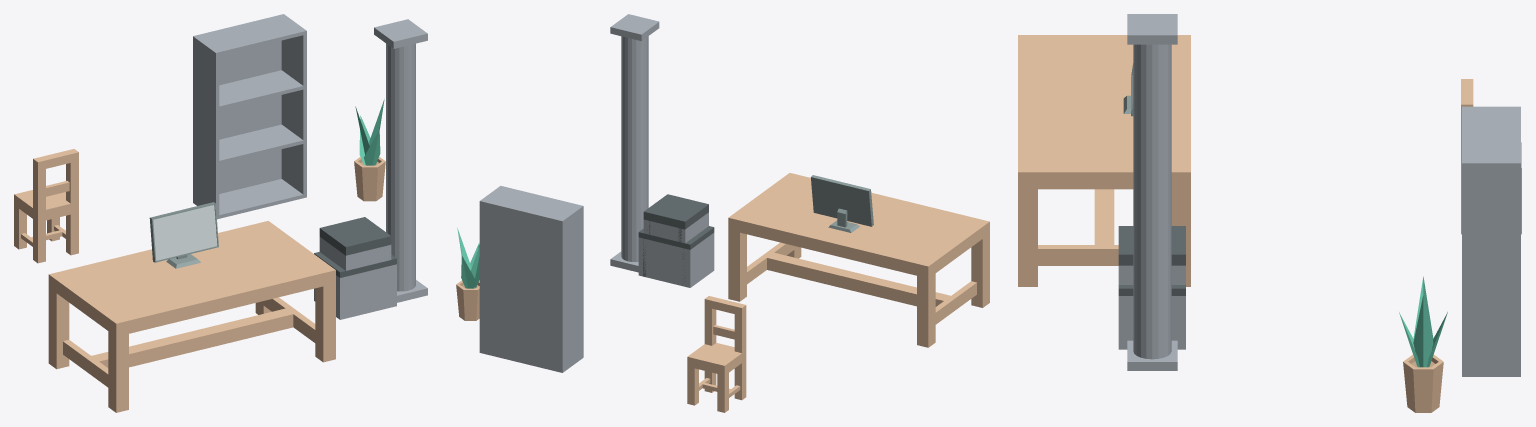
3 views of the same model, side by side, from view 1: azimuth 30°, elevation 25°; view 2: azimuth 150°, elevation 25°; view 3: azimuth 270°, elevation 25° (orthographic). The views are drawn at different scales.
Parts seen in each view (by area): view 1: table_green__table(Clone), column_cyan__column_cyan shaft, shelf_orange__shelf_orange back, chair_cyan__chair(Clone), shelf_orange__shelf_orange side_l, monitor_gray__computerScreen(Clone), shelf_orange__shelf_orange side_r, crate_red__crate_red shell, shelf_orange__shelf_orange board3, shelf_orange__shelf_orange board1, shelf_orange__shelf_orange board2, shelf_orange__shelf_orange board0 (+6 smaller); view 2: table_green__table(Clone), shelf_orange__shelf_orange back, column_cyan__column_cyan shaft, chair_cyan__chair(Clone), shelf_orange__shelf_orange side_l, crate_red__crate_red shell, monitor_gray__computerScreen(Clone), shelf_orange__shelf_orange board3, bin_gray__bin_gray lid, bin_gray__bin_gray shell, column_cyan__column_cyan capital, plant_pink__pottedPlant(Clone) (+3 smaller); view 3: table_green__table(Clone), shelf_orange__shelf_orange side_r, column_cyan__column_cyan shaft, shelf_orange__shelf_orange board3, plant_pink__pottedPlant(Clone), column_cyan__column_cyan capital, crate_red__crate_red shell, plant_pink__plant, bin_gray__bin_gray lid, column_cyan__column_cyan plinth, bin_gray__bin_gray shell, chair_cyan__chair(Clone).
Boxes of the visible parts, bbox=[...] form: table_green__table(Clone): bbox=[48, 221, 335, 412]; column_cyan__column_cyan shaft: bbox=[386, 43, 415, 291]; shelf_orange__shelf_orange back: bbox=[196, 15, 281, 193]; chair_cyan__chair(Clone): bbox=[14, 149, 78, 263]; shelf_orange__shelf_orange side_l: bbox=[193, 35, 219, 219]; monitor_gray__computerScreen(Clone): bbox=[149, 202, 218, 268]; shelf_orange__shelf_orange side_r: bbox=[280, 14, 306, 198]; crate_red__crate_red shell: bbox=[314, 264, 396, 319]; shelf_orange__shelf_orange board3: bbox=[198, 16, 303, 55]; shelf_orange__shelf_orange board1: bbox=[219, 124, 303, 164]; shelf_orange__shelf_orange board2: bbox=[219, 70, 303, 109]; shelf_orange__shelf_orange board0: bbox=[219, 179, 303, 218]; table_green__table(Clone): bbox=[728, 173, 989, 347]; shelf_orange__shelf_orange back: bbox=[482, 201, 559, 371]; column_cyan__column_cyan shaft: bbox=[621, 36, 648, 261]; chair_cyan__chair(Clone): bbox=[687, 296, 746, 412]; shelf_orange__shelf_orange side_l: bbox=[559, 205, 583, 372]; crate_red__crate_red shell: bbox=[638, 233, 714, 287]; monitor_gray__computerScreen(Clone): bbox=[811, 175, 873, 232]; shelf_orange__shelf_orange board3: bbox=[484, 186, 579, 219]; bin_gray__bin_gray lid: bbox=[643, 194, 708, 229]; bin_gray__bin_gray shell: bbox=[643, 212, 708, 243]; column_cyan__column_cyan capital: bbox=[610, 14, 659, 40]; plant_pink__pottedPlant(Clone): bbox=[456, 280, 479, 320]; table_green__table(Clone): bbox=[1018, 35, 1190, 286]; shelf_orange__shelf_orange side_r: bbox=[1462, 161, 1520, 376]; column_cyan__column_cyan shaft: bbox=[1133, 44, 1171, 359]; shelf_orange__shelf_orange board3: bbox=[1462, 108, 1517, 161]; plant_pink__pottedPlant(Clone): bbox=[1403, 354, 1443, 412]; column_cyan__column_cyan capital: bbox=[1127, 14, 1177, 44]; crate_red__crate_red shell: bbox=[1118, 296, 1185, 349]; plant_pink__plant: bbox=[1399, 276, 1447, 367]; bin_gray__bin_gray lid: bbox=[1118, 226, 1185, 265]; column_cyan__column_cyan plinth: bbox=[1127, 340, 1177, 370]; bin_gray__bin_gray shell: bbox=[1118, 265, 1185, 284]; chair_cyan__chair(Clone): bbox=[1461, 79, 1521, 234].
Size of the model in its own units: 3.75 by 2.2 by 2.99.
